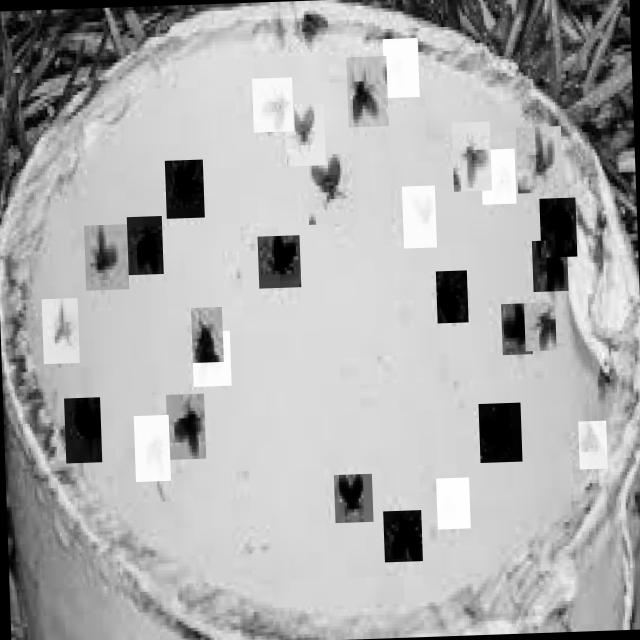fruit fly: (306, 153, 358, 225), (516, 125, 562, 193), (346, 56, 388, 126), (84, 224, 128, 290), (452, 121, 492, 191), (283, 103, 325, 166), (478, 402, 522, 462), (166, 394, 206, 459), (64, 397, 102, 463), (41, 297, 79, 363), (134, 414, 170, 482), (164, 159, 204, 218), (257, 235, 301, 288), (252, 77, 294, 132), (539, 197, 577, 257), (382, 38, 419, 98), (126, 216, 164, 274), (192, 331, 232, 386), (402, 185, 436, 248), (382, 510, 422, 562), (480, 148, 516, 204), (333, 473, 373, 522), (531, 240, 568, 292), (190, 306, 223, 362), (436, 477, 470, 529), (436, 270, 468, 323), (500, 302, 532, 354), (524, 302, 556, 351), (578, 420, 608, 469)
